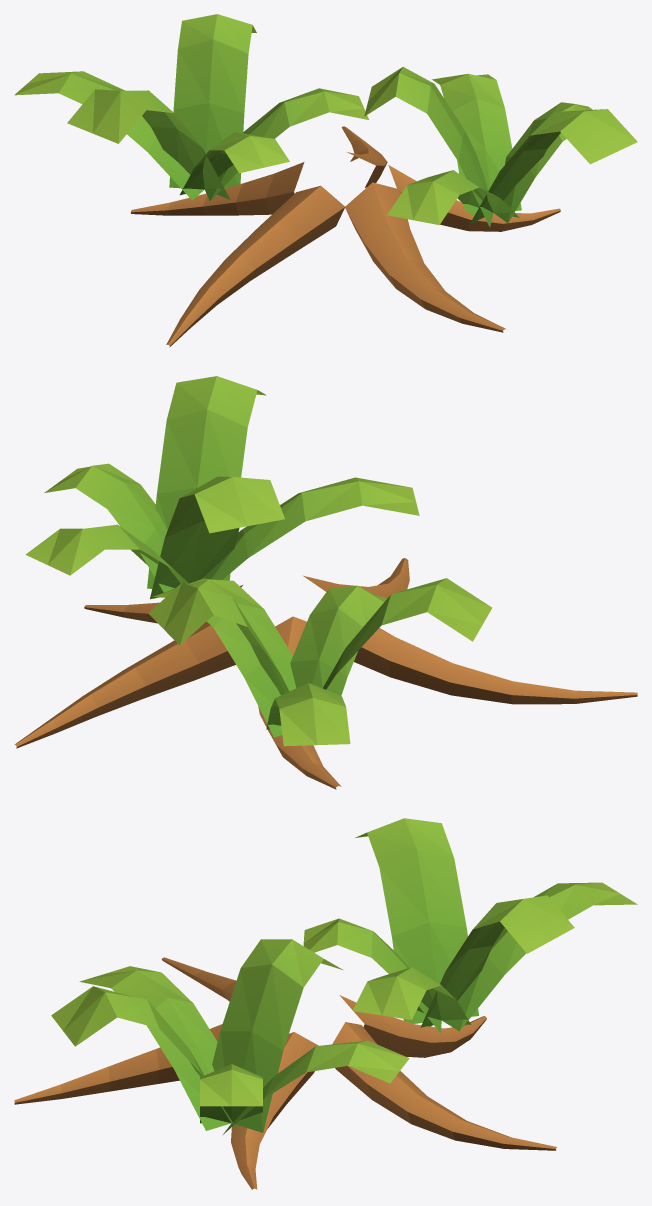
File: palm-base-open-v1.glb
The picture shows the model from 3 angles, top to bottom: view 1: azimuth 30°, elevation 25°; view 2: azimuth 150°, elevation 25°; view 3: azimuth 270°, elevation 25°; orthographic projection. The views are drawn at different scales.
Visible parts, largest first — view 1: palm-base-open-v1-leaves, palm-base-open-v1-roots; view 2: palm-base-open-v1-leaves, palm-base-open-v1-roots; view 3: palm-base-open-v1-leaves, palm-base-open-v1-roots.
Boxes of the visible parts, box(x1,y1,x2,y2) form: palm-base-open-v1-leaves: box(14, 14, 637, 227); palm-base-open-v1-roots: box(130, 126, 560, 347); palm-base-open-v1-leaves: box(25, 376, 491, 746); palm-base-open-v1-roots: box(14, 558, 637, 789); palm-base-open-v1-leaves: box(51, 818, 637, 1137); palm-base-open-v1-roots: box(14, 957, 556, 1189).
Bounding box in the file's own units: 1.96 × 0.6525 × 2.08.
